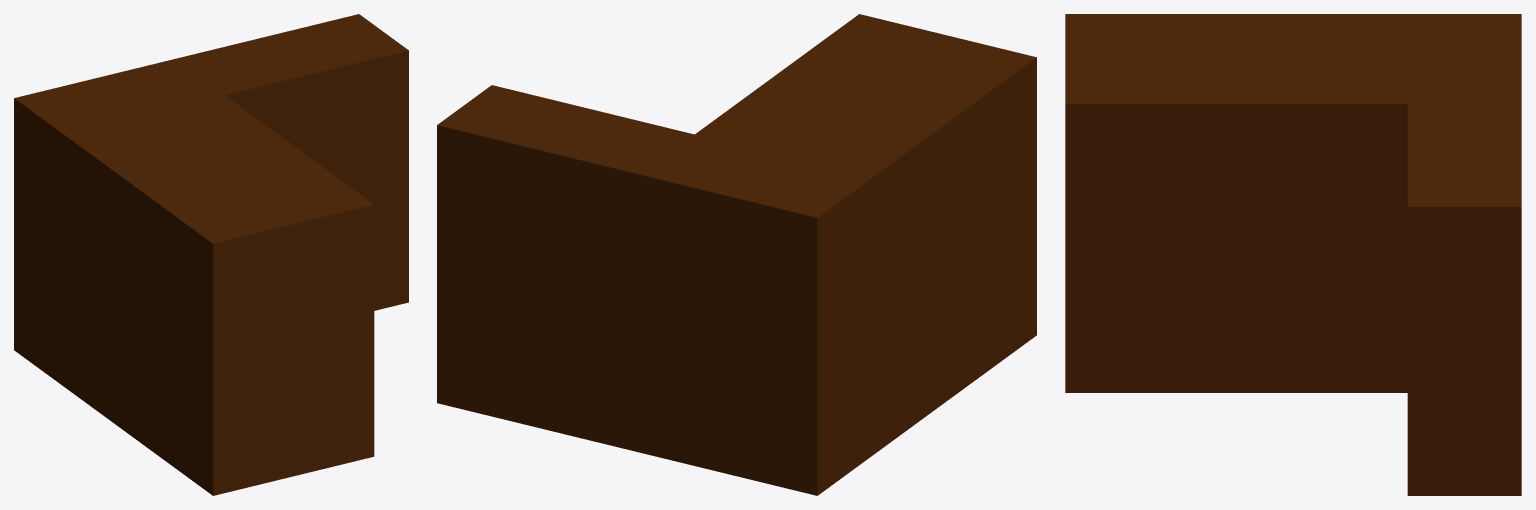
Rendered from counter1.fbx.
The picture shows the model from 3 angles, left to right: view 1: azimuth 30°, elevation 25°; view 2: azimuth 150°, elevation 25°; view 3: azimuth 270°, elevation 25°; orthographic projection. The views are drawn at different scales.
Parts seen in each view (by area): view 1: pCube1; view 2: pCube1; view 3: pCube1.
Boxes of the visible parts, x1,y1,x2,y2 form: pCube1: (14,14,408,495); pCube1: (437,14,1036,495); pCube1: (1065,14,1521,495).
Bounding box in the file's own units: 10.19 × 7.12 × 10.18.
